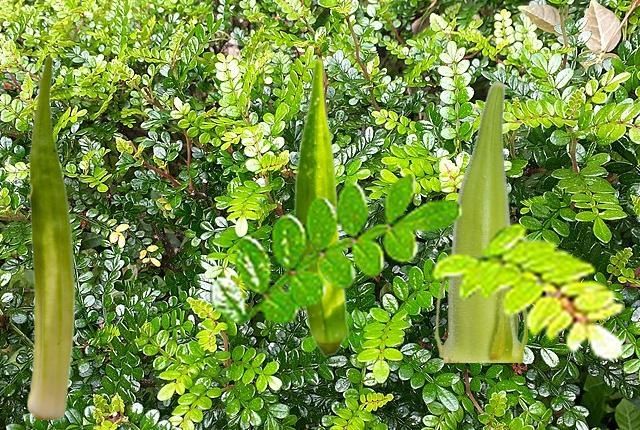okra: (433, 80, 526, 361), (27, 55, 74, 418), (294, 57, 348, 356)
